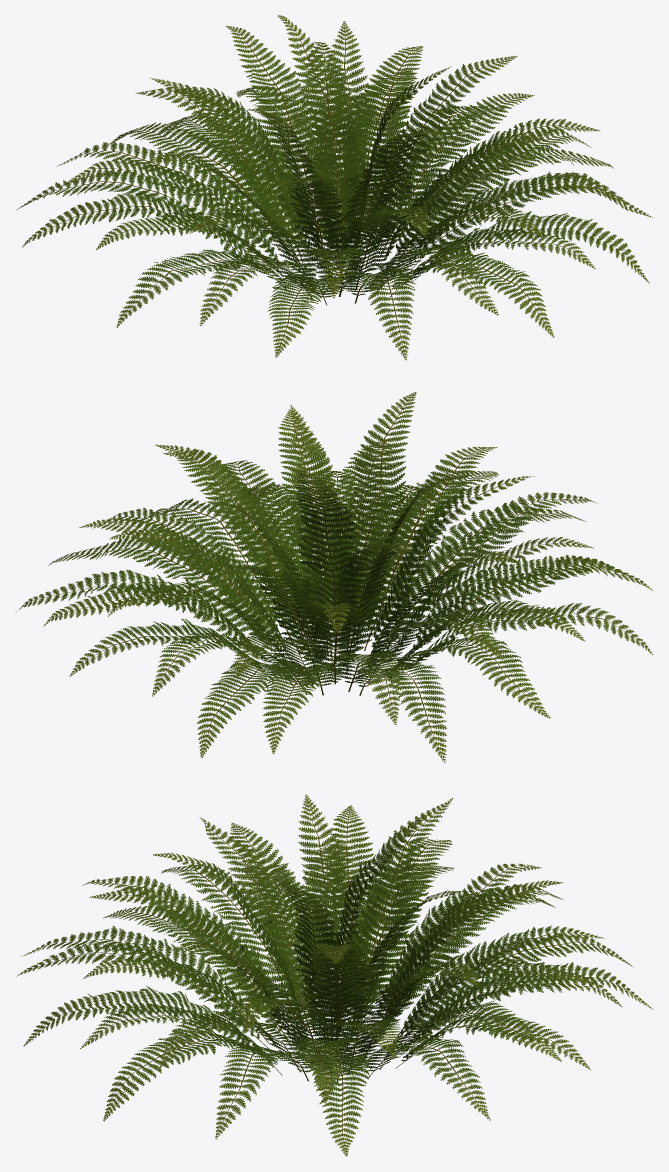
File: matteuccia_struthiopteris_b001_lod1.gltf
3 views of the same model, one above another, from view 1: azimuth 30°, elevation 25°; view 2: azimuth 150°, elevation 25°; view 3: azimuth 270°, elevation 25° (orthographic).
Visible parts, largest first — view 1: Matteuccia_struthiopteris__B001; view 2: Matteuccia_struthiopteris__B001; view 3: Matteuccia_struthiopteris__B001.
Part boxes in pixels (bbox=[...]): Matteuccia_struthiopteris__B001: bbox=[16, 15, 652, 360]; Matteuccia_struthiopteris__B001: bbox=[15, 392, 652, 762]; Matteuccia_struthiopteris__B001: bbox=[16, 795, 653, 1156].
Bounding box in the file's own units: 2.39 × 0.9645 × 2.38.
1 material, 1 textured.
